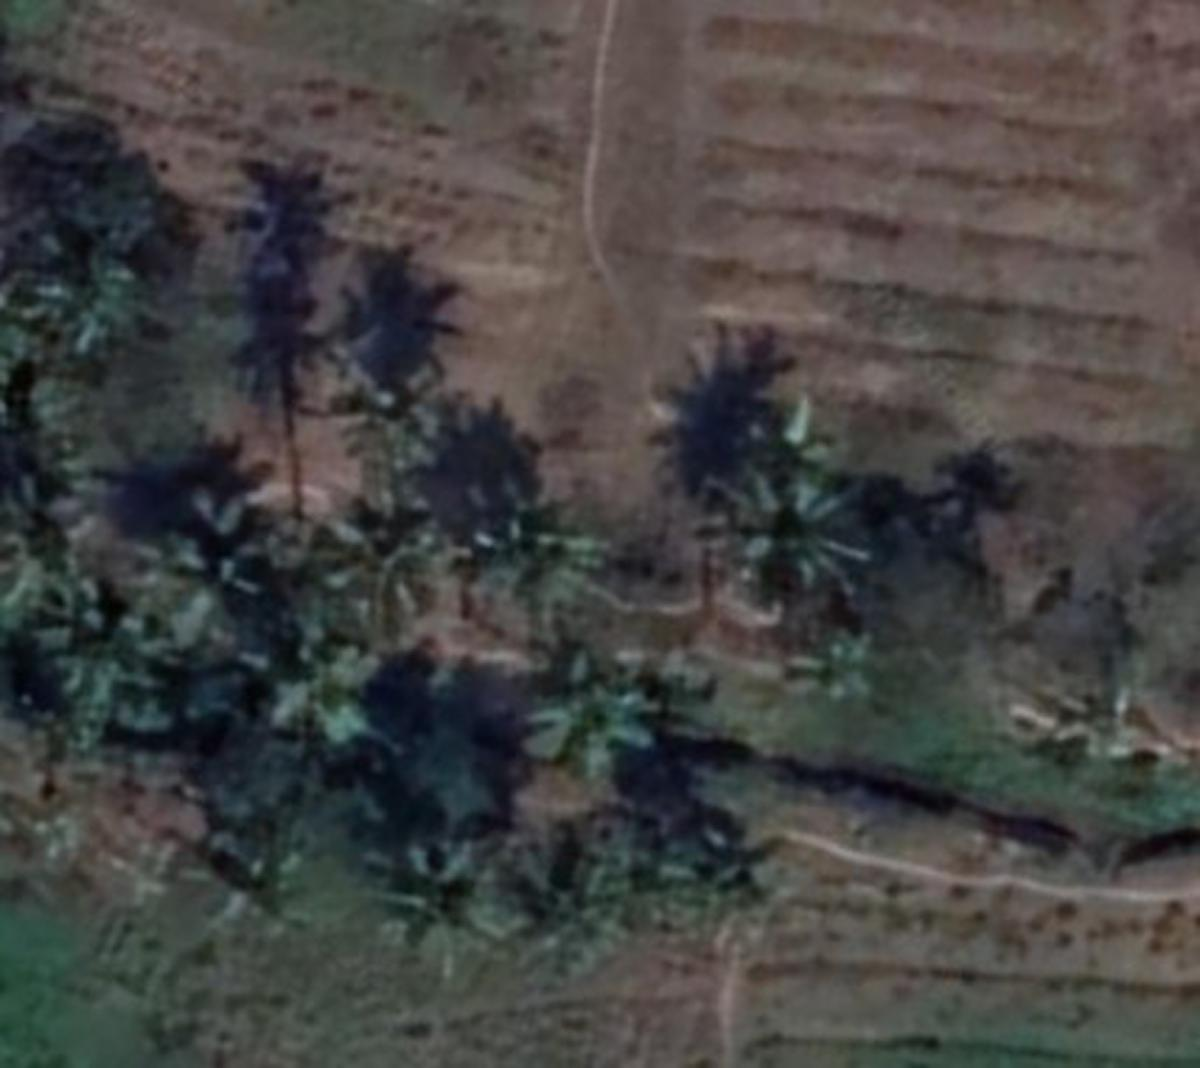coconut: (692, 437, 855, 602), (148, 487, 300, 650), (521, 655, 656, 798), (16, 221, 165, 351), (459, 504, 591, 625), (263, 630, 381, 750), (386, 840, 493, 961), (314, 507, 428, 619), (213, 843, 314, 941), (799, 616, 885, 728)
